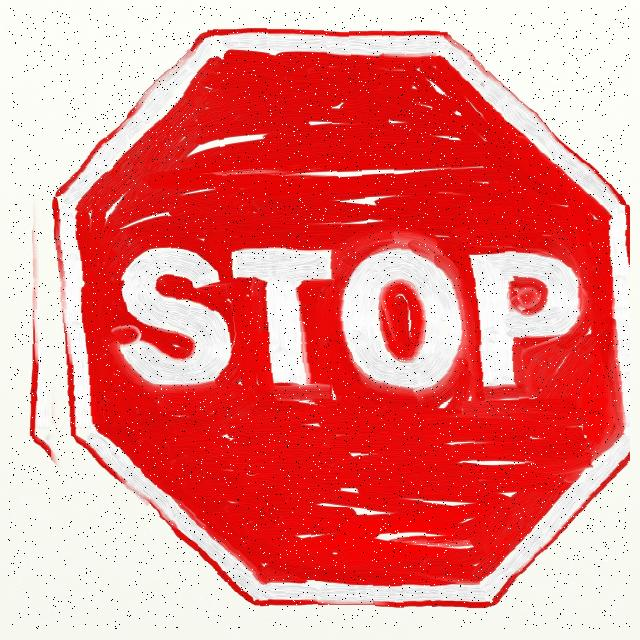stop: (8, 6, 630, 629)
